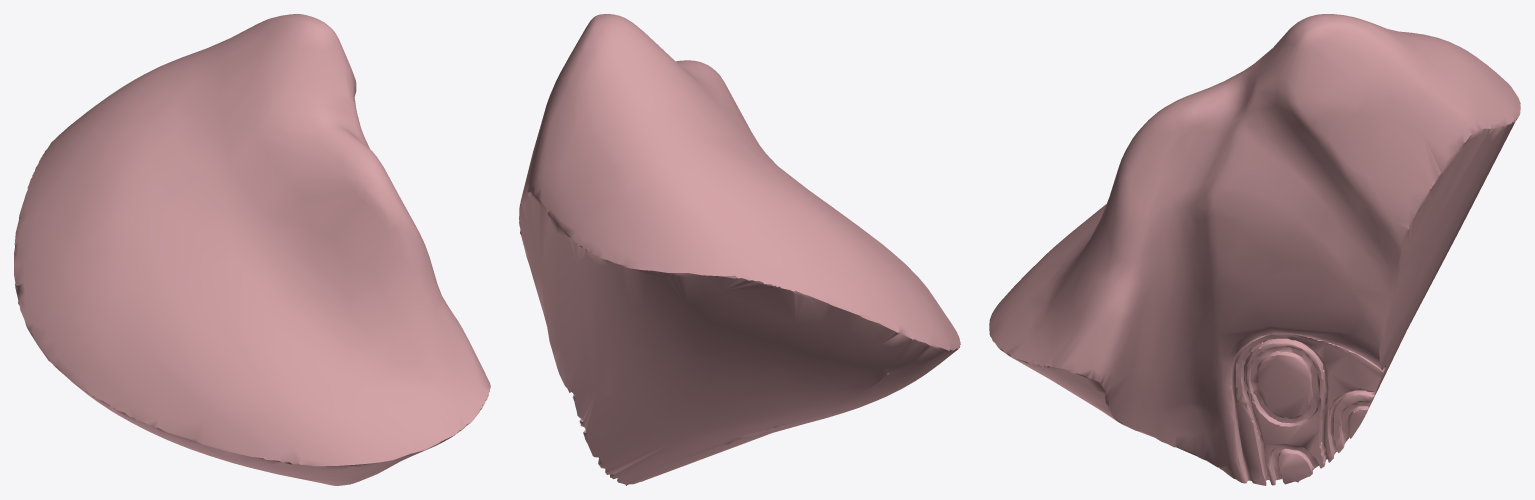
File: fma27369_fj6604.glb
3 renders of one model, left to right at view 1: azimuth 30°, elevation 25°; view 2: azimuth 150°, elevation 25°; view 3: azimuth 270°, elevation 25°, orthographic. The views are drawn at different scales.
Parts seen in each view (by area): view 1: FMA27369_FJ6604; view 2: FMA27369_FJ6604; view 3: FMA27369_FJ6604.
Part boxes in pixels (x1,y1,x2,y2): FMA27369_FJ6604: (14, 14, 490, 485); FMA27369_FJ6604: (519, 14, 960, 485); FMA27369_FJ6604: (989, 14, 1520, 485).
Bounding box in the file's own units: 0.0823 × 0.097 × 0.0989.
